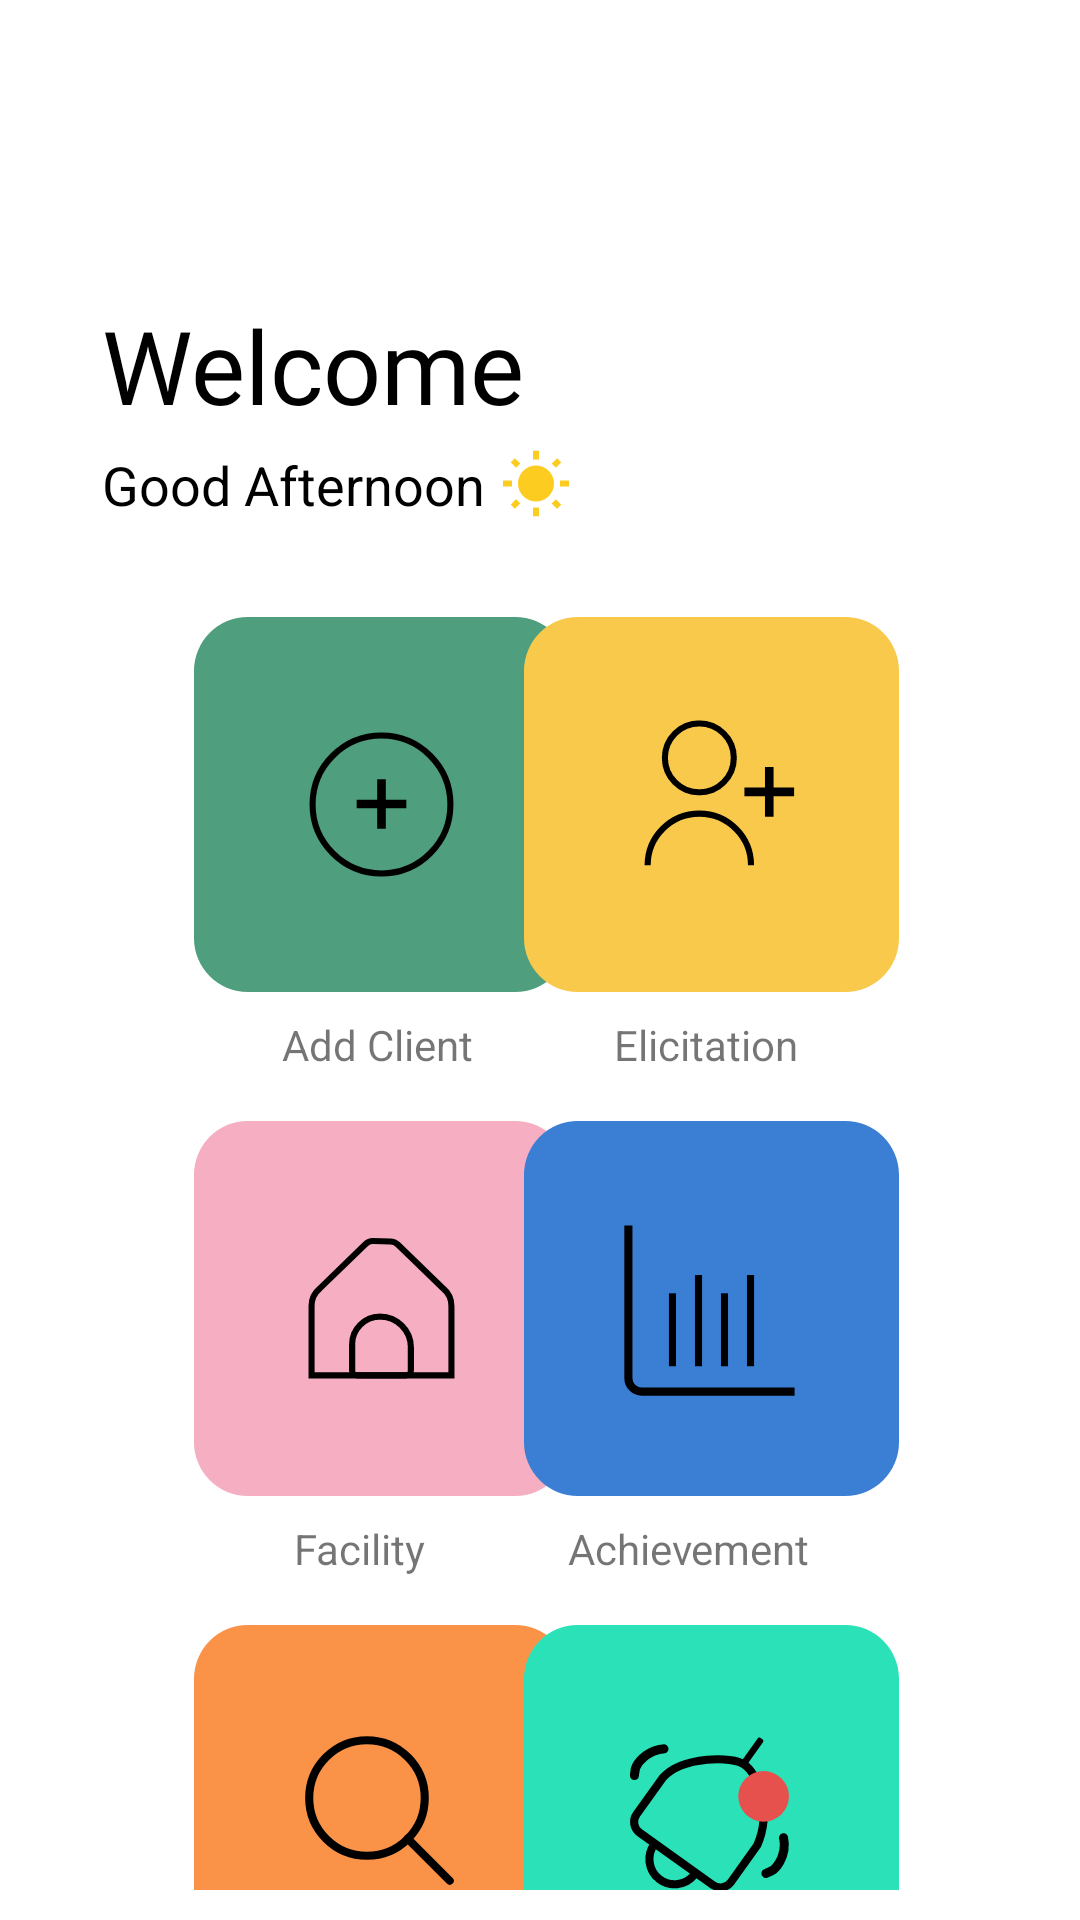

Screen size 1080px x 1920px. Icon name, then its center in pixels as (x,y):
sunny: (536,483)
